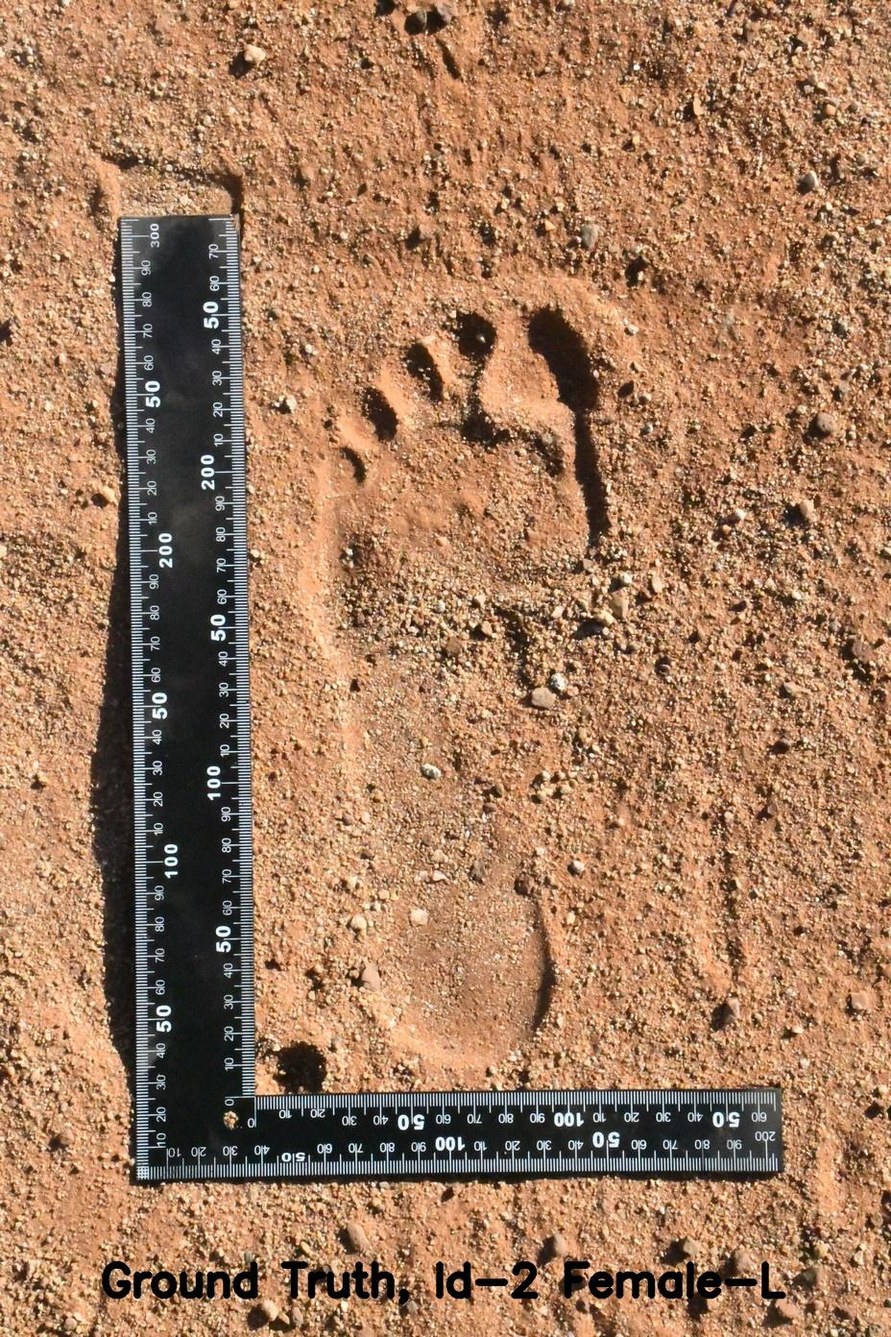human_foot_print: (285, 228, 695, 1082)
